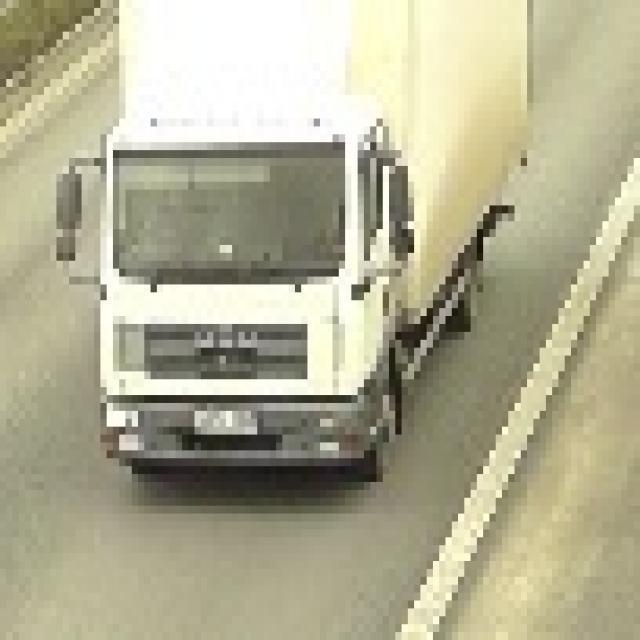Truck: (50, 0, 527, 482)
